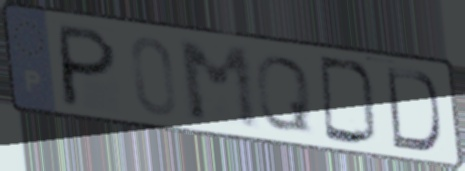0: (128, 34, 180, 120)
D: (315, 52, 382, 149), (383, 64, 444, 154)
M: (174, 38, 265, 134)
P: (58, 21, 120, 111)
Q: (252, 52, 315, 135)
